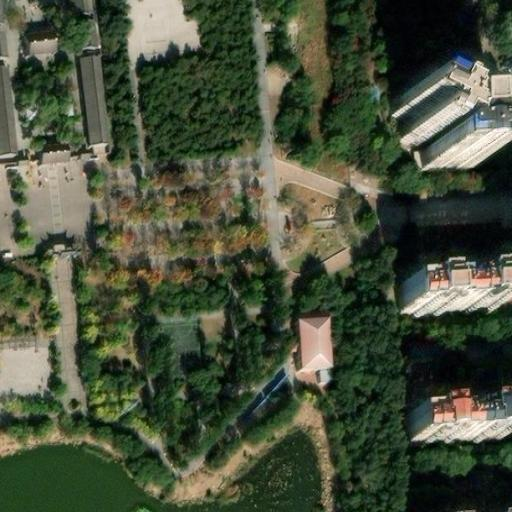building: (388, 82, 503, 166), (405, 397, 509, 439), (386, 269, 494, 308), (74, 65, 100, 149), (296, 325, 330, 378), (21, 23, 58, 55), (75, 12, 100, 50), (37, 144, 72, 165), (501, 264, 512, 297)
